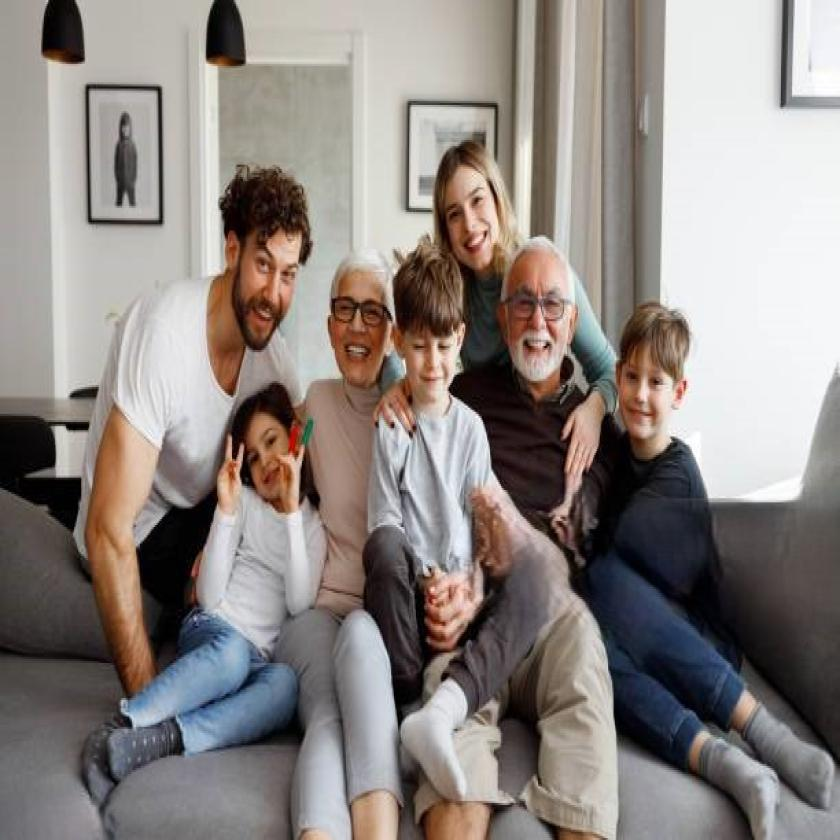Sin_casco: (222, 164, 316, 362), (502, 238, 584, 407), (395, 232, 468, 418), (325, 240, 404, 407), (614, 288, 686, 457), (434, 133, 509, 282), (234, 383, 314, 518)
